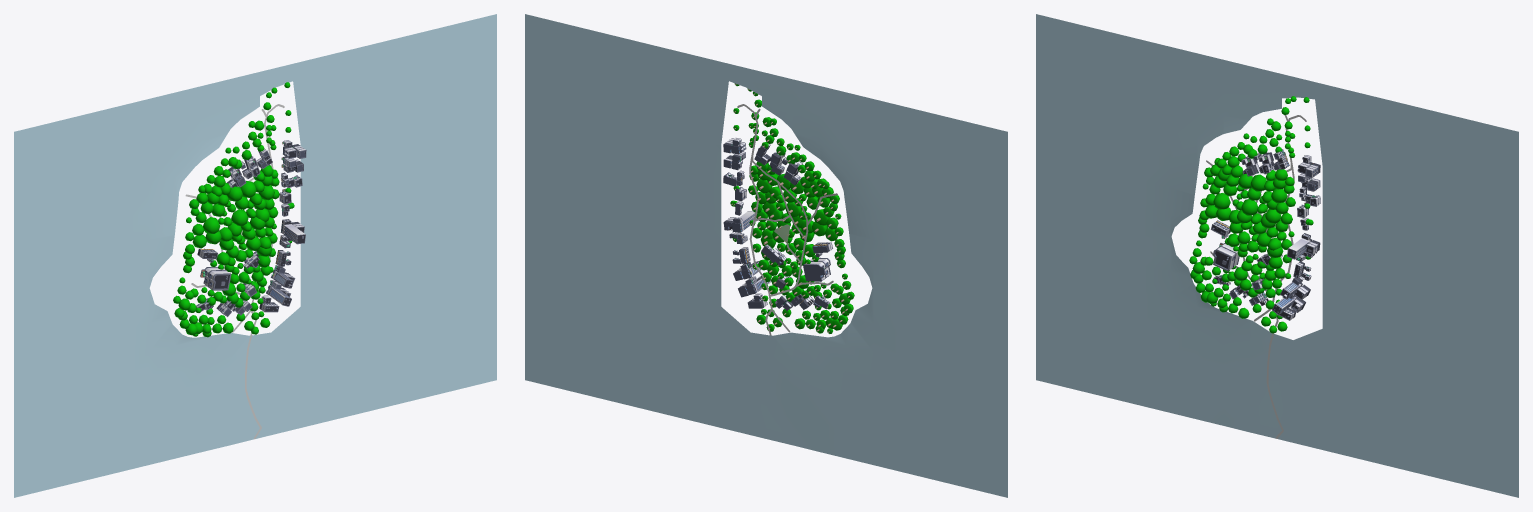
Rendered from rp-town-city.glb.
3 renders of one model, left to right at view 1: azimuth 30°, elevation 25°; view 2: azimuth 150°, elevation 25°; view 3: azimuth 330°, elevation 25°, orthographic.
Visible parts, largest first — view 1: TPX_Waterways_2, TPX_Buildings, TPX_RoadsOutlines; view 2: TPX_Waterways_2, TPX_Buildings, TPX_RoadsOutlines; view 3: TPX_Waterways_2, TPX_Buildings, TPX_RoadsOutlines.
Part boxes in pixels (<box>): TPX_Waterways_2: <box>14,14,496,497</box>; TPX_Buildings: <box>196,140,306,316</box>; TPX_RoadsOutlines: <box>185,104,284,439</box>; TPX_Waterways_2: <box>525,14,1007,497</box>; TPX_Buildings: <box>723,138,832,310</box>; TPX_RoadsOutlines: <box>737,104,837,335</box>; TPX_Waterways_2: <box>1036,14,1518,497</box>; TPX_Buildings: <box>1211,149,1320,320</box>; TPX_RoadsOutlines: <box>1206,115,1306,438</box>.
Bounding box in the file's own units: 532 × 386 × 31.81.
Materials: 6 (1 with a texture image).
